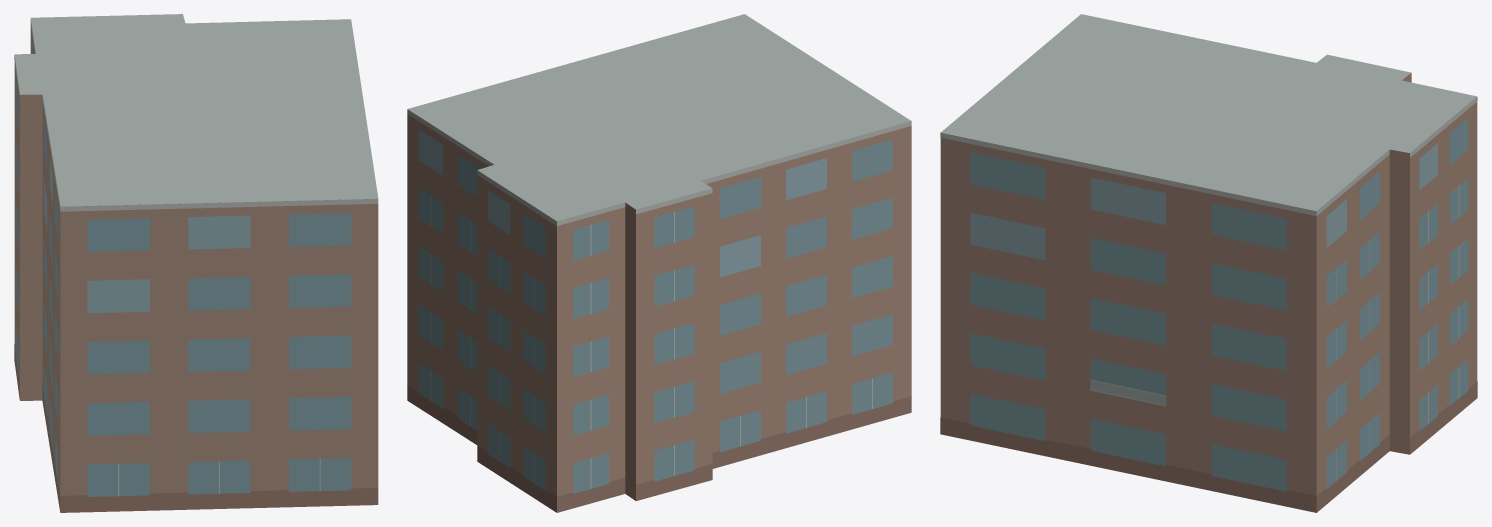
The model's file is survey-upis-32987284.glb.
3 views of the same model, side by side, from view 1: azimuth 30°, elevation 25°; view 2: azimuth 150°, elevation 25°; view 3: azimuth 270°, elevation 25° (orthographic). The views are drawn at different scales.
Parts seen in each view (by area): view 1: survey-upis-32987284.tmp; view 2: survey-upis-32987284.tmp; view 3: survey-upis-32987284.tmp.
Part boxes in pixels (left/top/right/bottom): survey-upis-32987284.tmp: left=14, top=14, right=378, bottom=512; survey-upis-32987284.tmp: left=407, top=14, right=911, bottom=512; survey-upis-32987284.tmp: left=940, top=14, right=1477, bottom=512.
Bounding box in the file's own units: 20.9 × 14.9 × 24.05.
